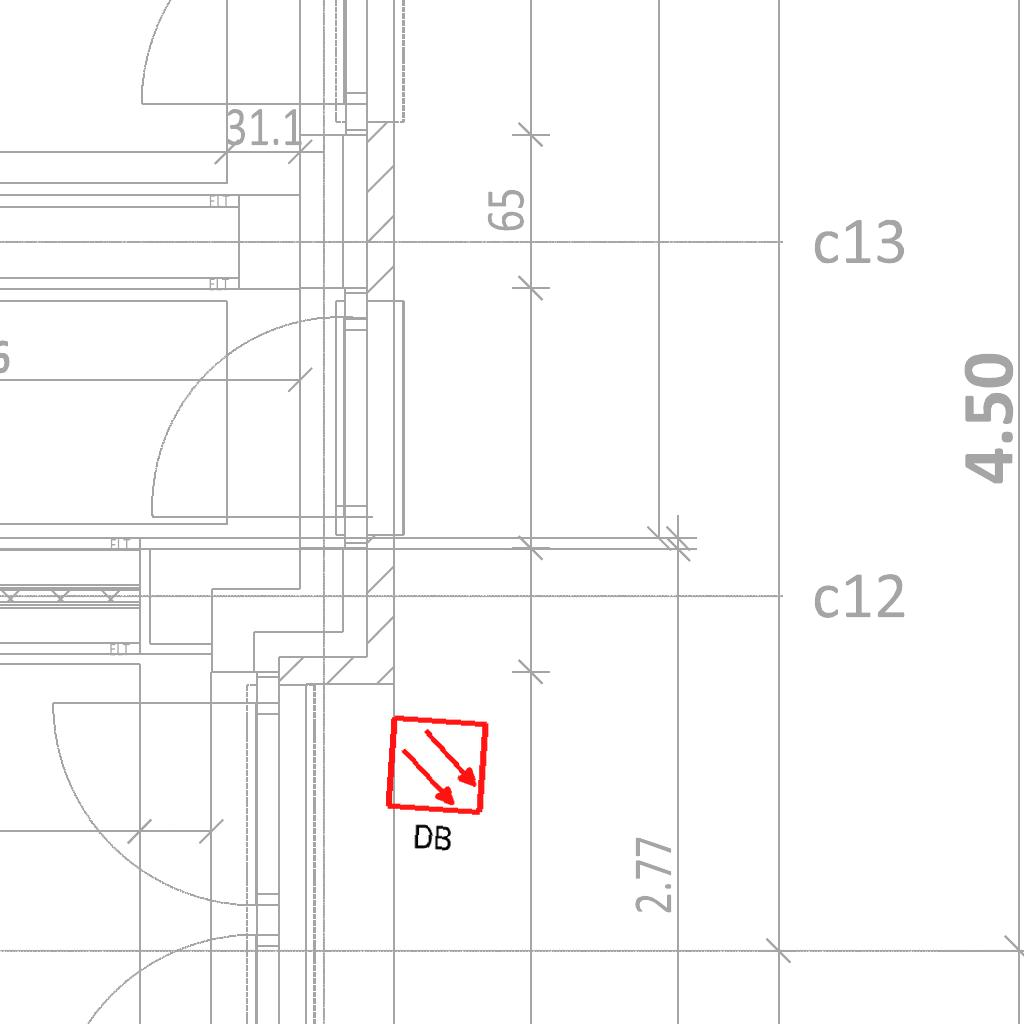DB_Melder_in_Doppelboden_mit_Revisionsoeffnung_mind_40_x_40_cm: (374, 707, 500, 864)
